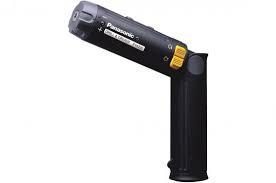screwdriver: (68, 0, 209, 181)
